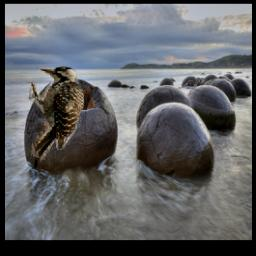Woodpecker: (26, 64, 84, 163)
